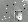person: (12, 8, 22, 20)
